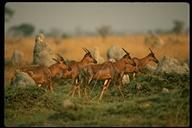antelope: (68, 46, 138, 97), (22, 52, 74, 95), (115, 47, 162, 92), (63, 46, 99, 78)
grass: (8, 105, 188, 128)
rock: (30, 31, 57, 62), (159, 54, 189, 76), (7, 70, 36, 89), (60, 98, 75, 108)
sky: (16, 4, 187, 19)
tree: (95, 23, 113, 39), (170, 20, 185, 35)
